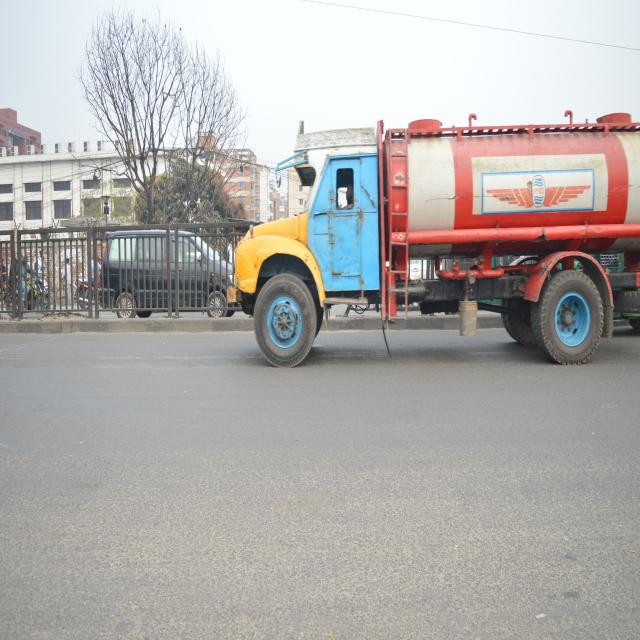microbus: (97, 216, 240, 318)
motorbike: (2, 279, 62, 324)
truck: (213, 99, 640, 380)
